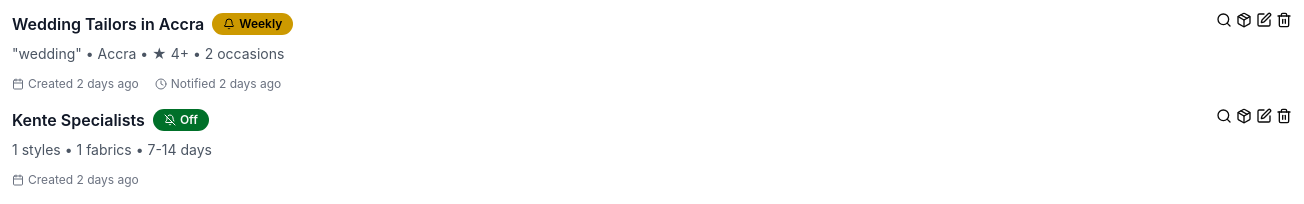
Test: SavedSearches › Check Matches Action › should show loading spinner while checking matches
Click the button titled "Check for new matches" in the row of "Weekly" at [1244, 20], box [1236, 12, 1252, 28]
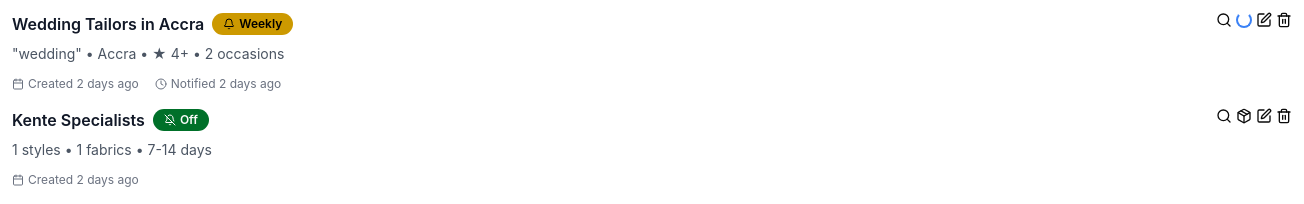
Expected: the element with class "animate-spin" is shown, [1236, 12, 1252, 28]
